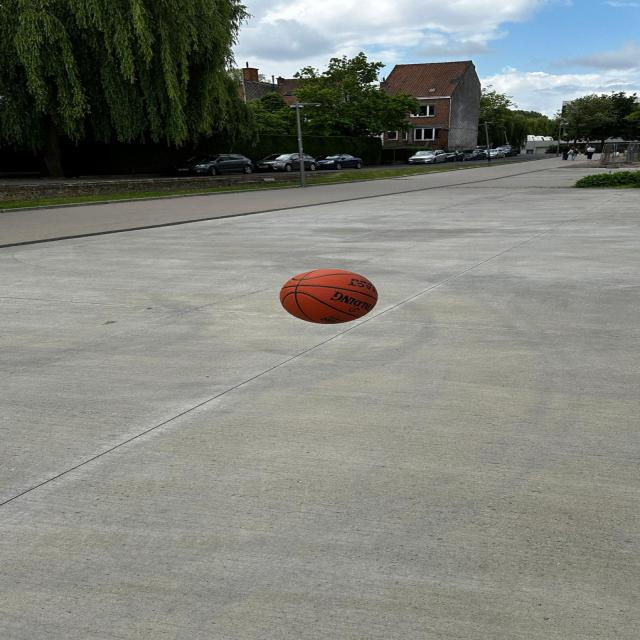Basketball: (282, 267, 381, 322)
